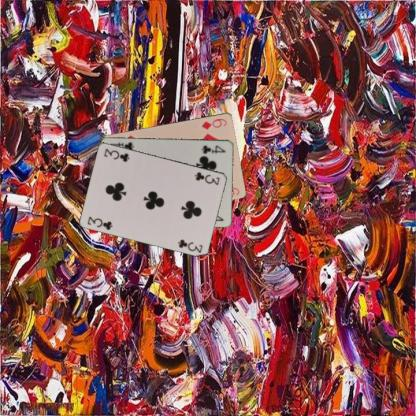3c: (192, 169, 221, 186), (85, 214, 114, 231)
4c: (199, 143, 226, 155)
6d: (198, 116, 228, 130)
